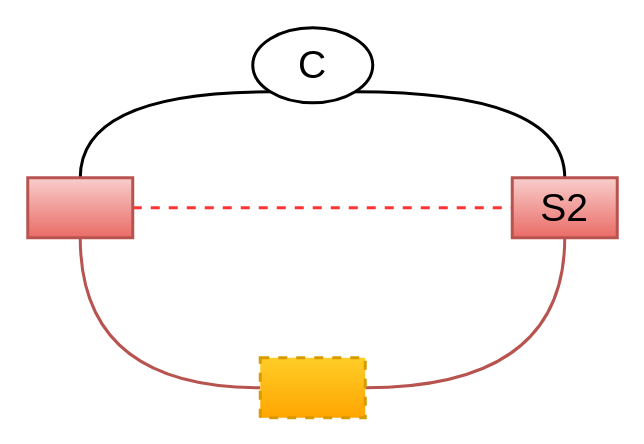
The diagram is 644 pixels wide and 444 high, and some of its shapes have lost their labels. Here are the shapes that lost their labels. From the top down, the box of each, then its label:
(26, 176, 134, 238): S1
(258, 356, 366, 418): S3
